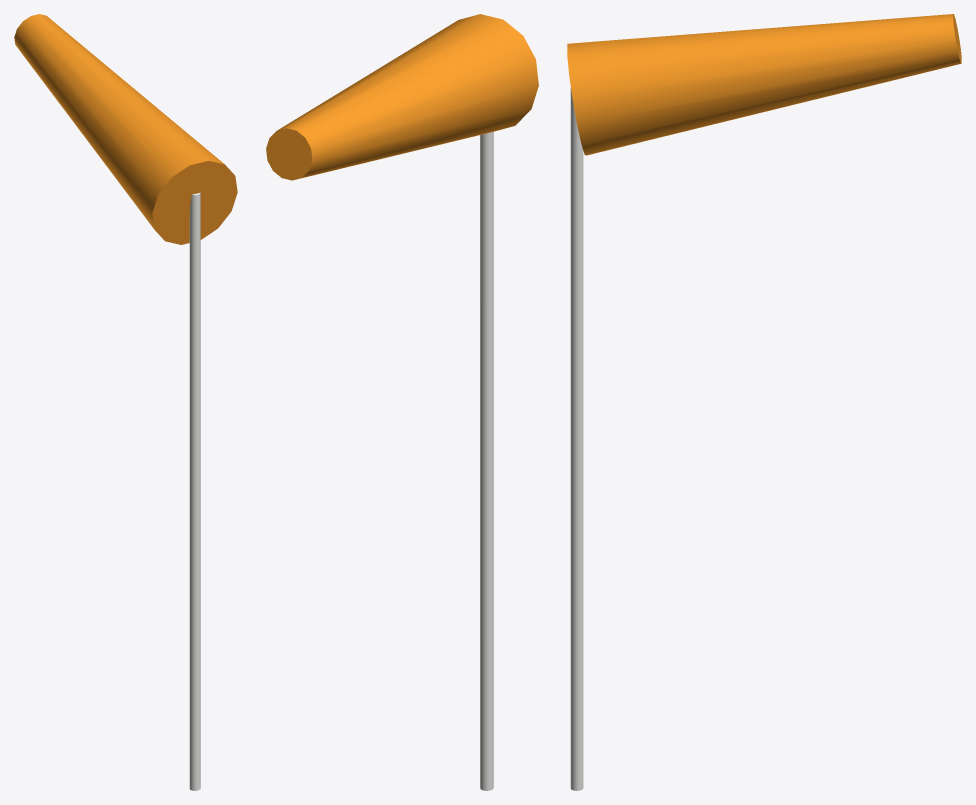
File: airport.airside.windsock.glb
3 renders of one model, left to right at view 1: azimuth 30°, elevation 25°; view 2: azimuth 150°, elevation 25°; view 3: azimuth 270°, elevation 25°, orthographic. The views are drawn at different scales.
Visible parts, largest first — view 1: main__hivis_orange, main__paint_white; view 2: main__hivis_orange, main__paint_white; view 3: main__hivis_orange, main__paint_white.
Boxes of the visible parts, x1=… form: main__hivis_orange: x1=14, y1=14, x2=237, y2=244; main__paint_white: x1=189, y1=193, x2=200, y2=790; main__hivis_orange: x1=266, y1=14, x2=538, y2=180; main__paint_white: x1=480, y1=132, x2=493, y2=790; main__hivis_orange: x1=567, y1=14, x2=961, y2=155; main__paint_white: x1=570, y1=88, x2=583, y2=790.
Size of the model in its own units: 0.9 by 6.61 by 3.06.
